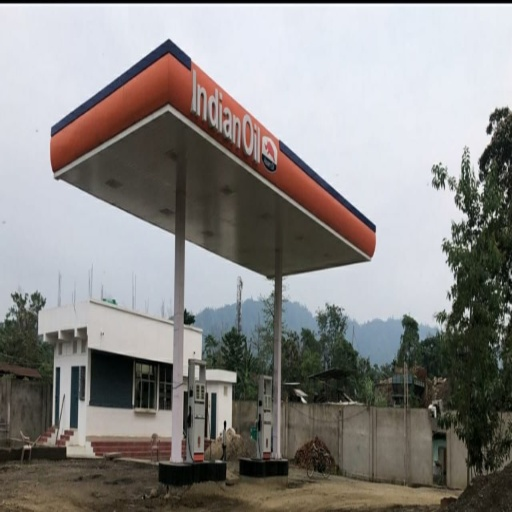roof: (43, 36, 379, 278)
